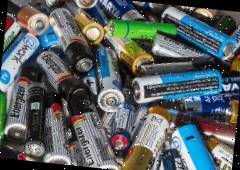electronic: (36, 3, 108, 82)
